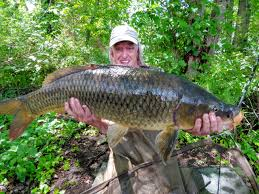carp: (1, 63, 244, 166)
